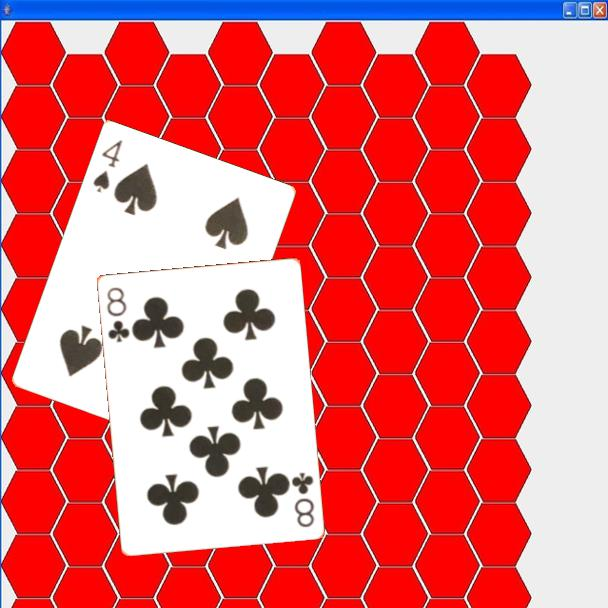c08: (103, 283, 132, 345), (288, 468, 317, 530)
s04: (90, 136, 126, 196)
